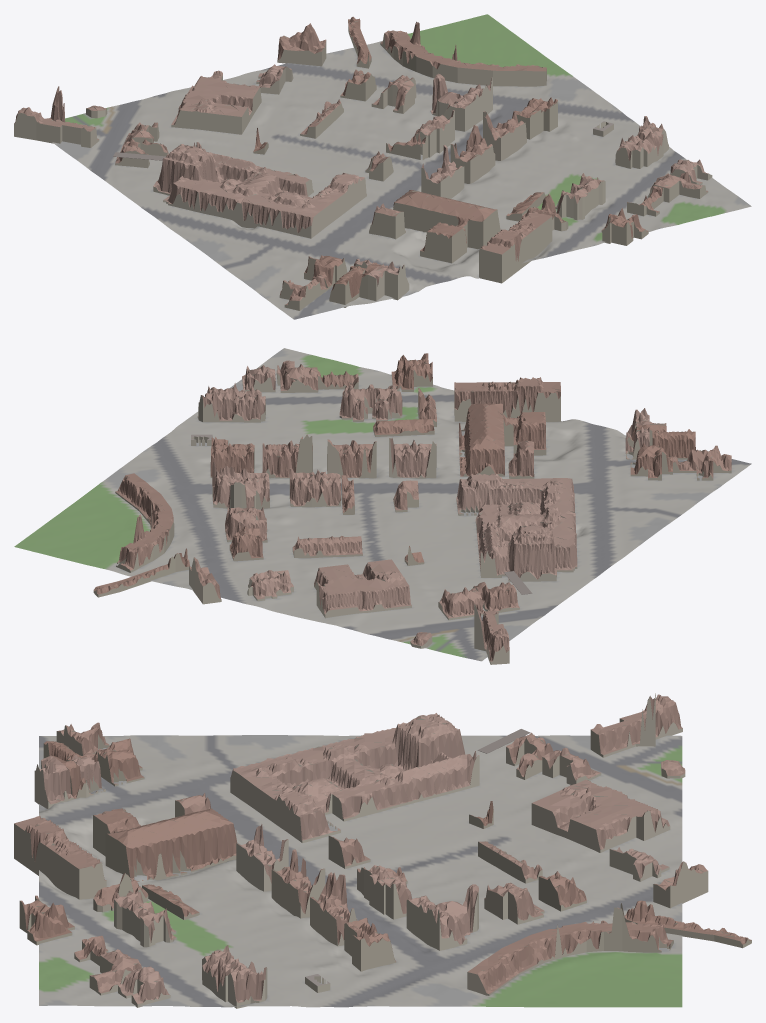
The picture shows the model from 3 angles, top to bottom: view 1: azimuth 30°, elevation 25°; view 2: azimuth 150°, elevation 25°; view 3: azimuth 270°, elevation 25°; orthographic projection. The views are drawn at different scales.
Visible parts, largest first — view 1: ground, b:way/119881103, b:way/119881102, b:way/108047436, b:way/137148787, b:way/45826776, b:way/171234467, b:way/137151154, b:way/171233688, b:way/129101967, b:way/137147882, b:way/171234477 (+24 smaller); view 2: ground, b:way/119881103, b:way/119881102, b:way/137148787, b:way/108047436, b:way/45826776, b:way/171233688, b:way/171234467, b:way/129101967, b:way/171234468, b:way/171234472, b:way/171234475 (+21 smaller); view 3: ground, b:way/119881103, b:way/119881102, b:way/108047436, b:way/137148787, b:way/45826776, b:way/171234467, b:way/171233688, b:way/137151154, b:way/129101967, b:way/171234475, b:way/171234477 (+26 smaller).
Boxes of the visible parts, x1,y1,x2,y2 form: ground: (52, 14, 751, 319); b:way/119881103: (153, 142, 366, 238); b:way/119881102: (393, 190, 500, 263); b:way/108047436: (380, 21, 546, 86); b:way/137148787: (171, 70, 261, 134); b:way/45826776: (479, 211, 552, 283); b:way/171234467: (430, 73, 492, 131); b:way/137151154: (14, 107, 99, 147); b:way/171233688: (615, 116, 668, 168); b:way/129101967: (555, 173, 605, 220); b:way/137147882: (277, 23, 326, 66); b:way/171234477: (450, 125, 495, 183); ground: (14, 348, 751, 661); b:way/119881103: (456, 473, 577, 581); b:way/119881102: (458, 403, 546, 476); b:way/137148787: (314, 559, 411, 618); b:way/108047436: (115, 473, 174, 572); b:way/45826776: (454, 377, 560, 421); b:way/171233688: (197, 383, 265, 422); b:way/171234467: (212, 462, 269, 511); b:way/129101967: (339, 384, 402, 421); b:way/171234468: (289, 468, 340, 507); b:way/171234472: (389, 438, 436, 478); b:way/171234475: (262, 434, 312, 478); ground: (39, 735, 682, 1007); b:way/119881103: (230, 713, 479, 843); b:way/119881102: (93, 808, 237, 881); b:way/108047436: (467, 907, 673, 995); b:way/137148787: (531, 779, 670, 852); b:way/45826776: (14, 816, 106, 899); b:way/171234467: (406, 884, 478, 950); b:way/171233688: (202, 945, 267, 1008); b:way/137151154: (590, 694, 682, 757); b:way/129101967: (114, 890, 176, 947); b:way/171234475: (310, 872, 356, 946); b:way/171234477: (271, 849, 325, 918).
Size of the model in its own units: 262 by 25.47 by 287.
